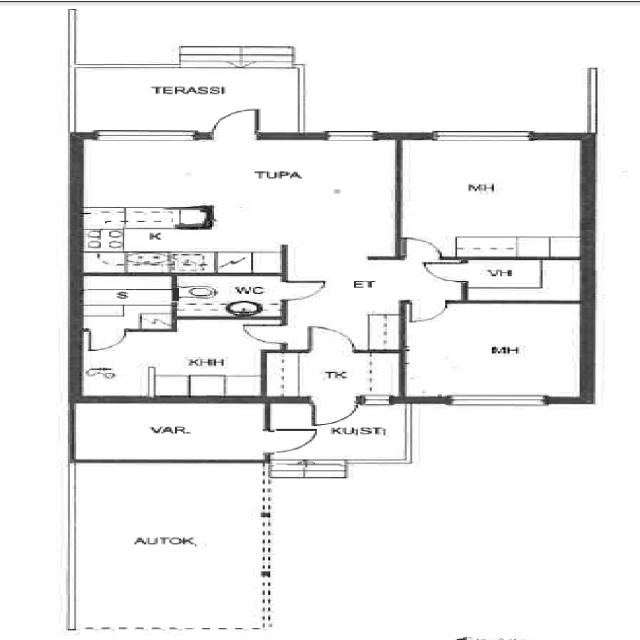door: (258, 423, 325, 455), (203, 106, 266, 140), (301, 323, 362, 356), (306, 395, 361, 429), (75, 325, 131, 354), (271, 277, 332, 303), (232, 320, 289, 346), (402, 298, 450, 326), (416, 259, 472, 283), (395, 235, 443, 261)
window: (83, 126, 204, 145), (422, 126, 544, 144), (434, 391, 556, 409), (311, 126, 389, 144), (356, 394, 396, 408)
zone: (62, 138, 408, 272), (394, 135, 586, 257), (402, 301, 588, 400), (72, 322, 274, 400), (72, 402, 268, 463), (73, 274, 177, 331), (458, 258, 588, 302), (171, 274, 286, 320)
